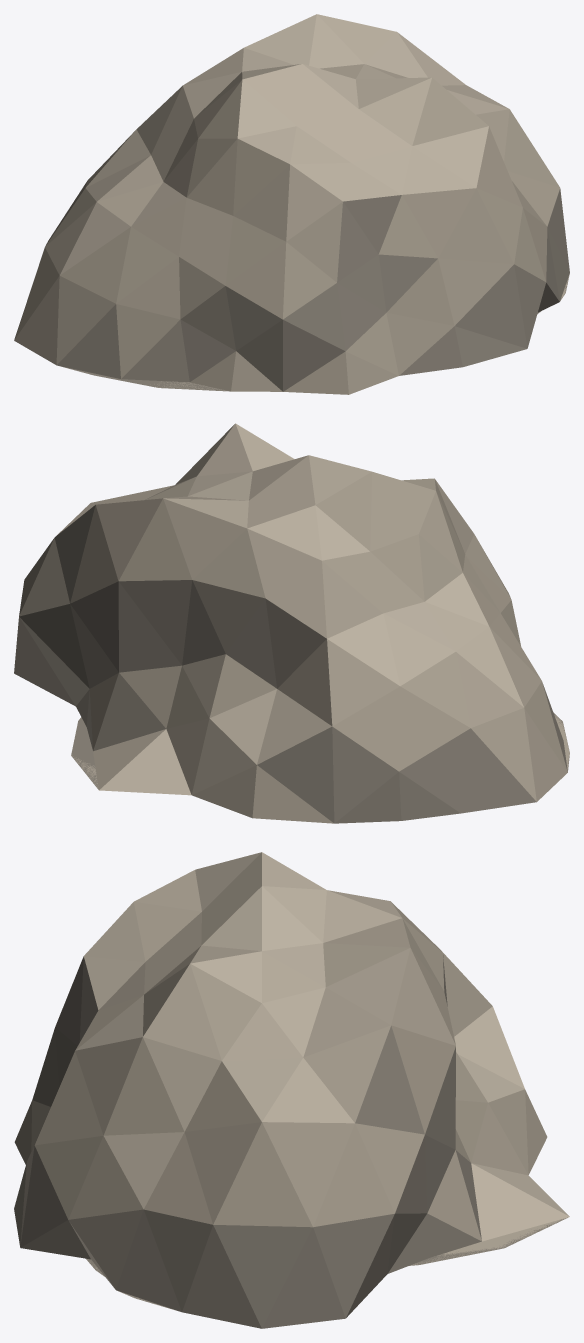
File: TERRAIN_01.obj
The picture shows the model from 3 angles, top to bottom: view 1: azimuth 30°, elevation 25°; view 2: azimuth 150°, elevation 25°; view 3: azimuth 270°, elevation 25°; orthographic projection. The views are drawn at different scales.
Parts seen in each view (by area): view 1: TERRAIN_01; view 2: TERRAIN_01; view 3: TERRAIN_01.
Boxes of the visible parts, left/top/right/bottom form: TERRAIN_01: left=14, top=14, right=569, bottom=394; TERRAIN_01: left=14, top=423, right=569, bottom=823; TERRAIN_01: left=14, top=852, right=569, bottom=1328.
Size of the model in its own units: 1.95 by 0.8755 by 1.52.
